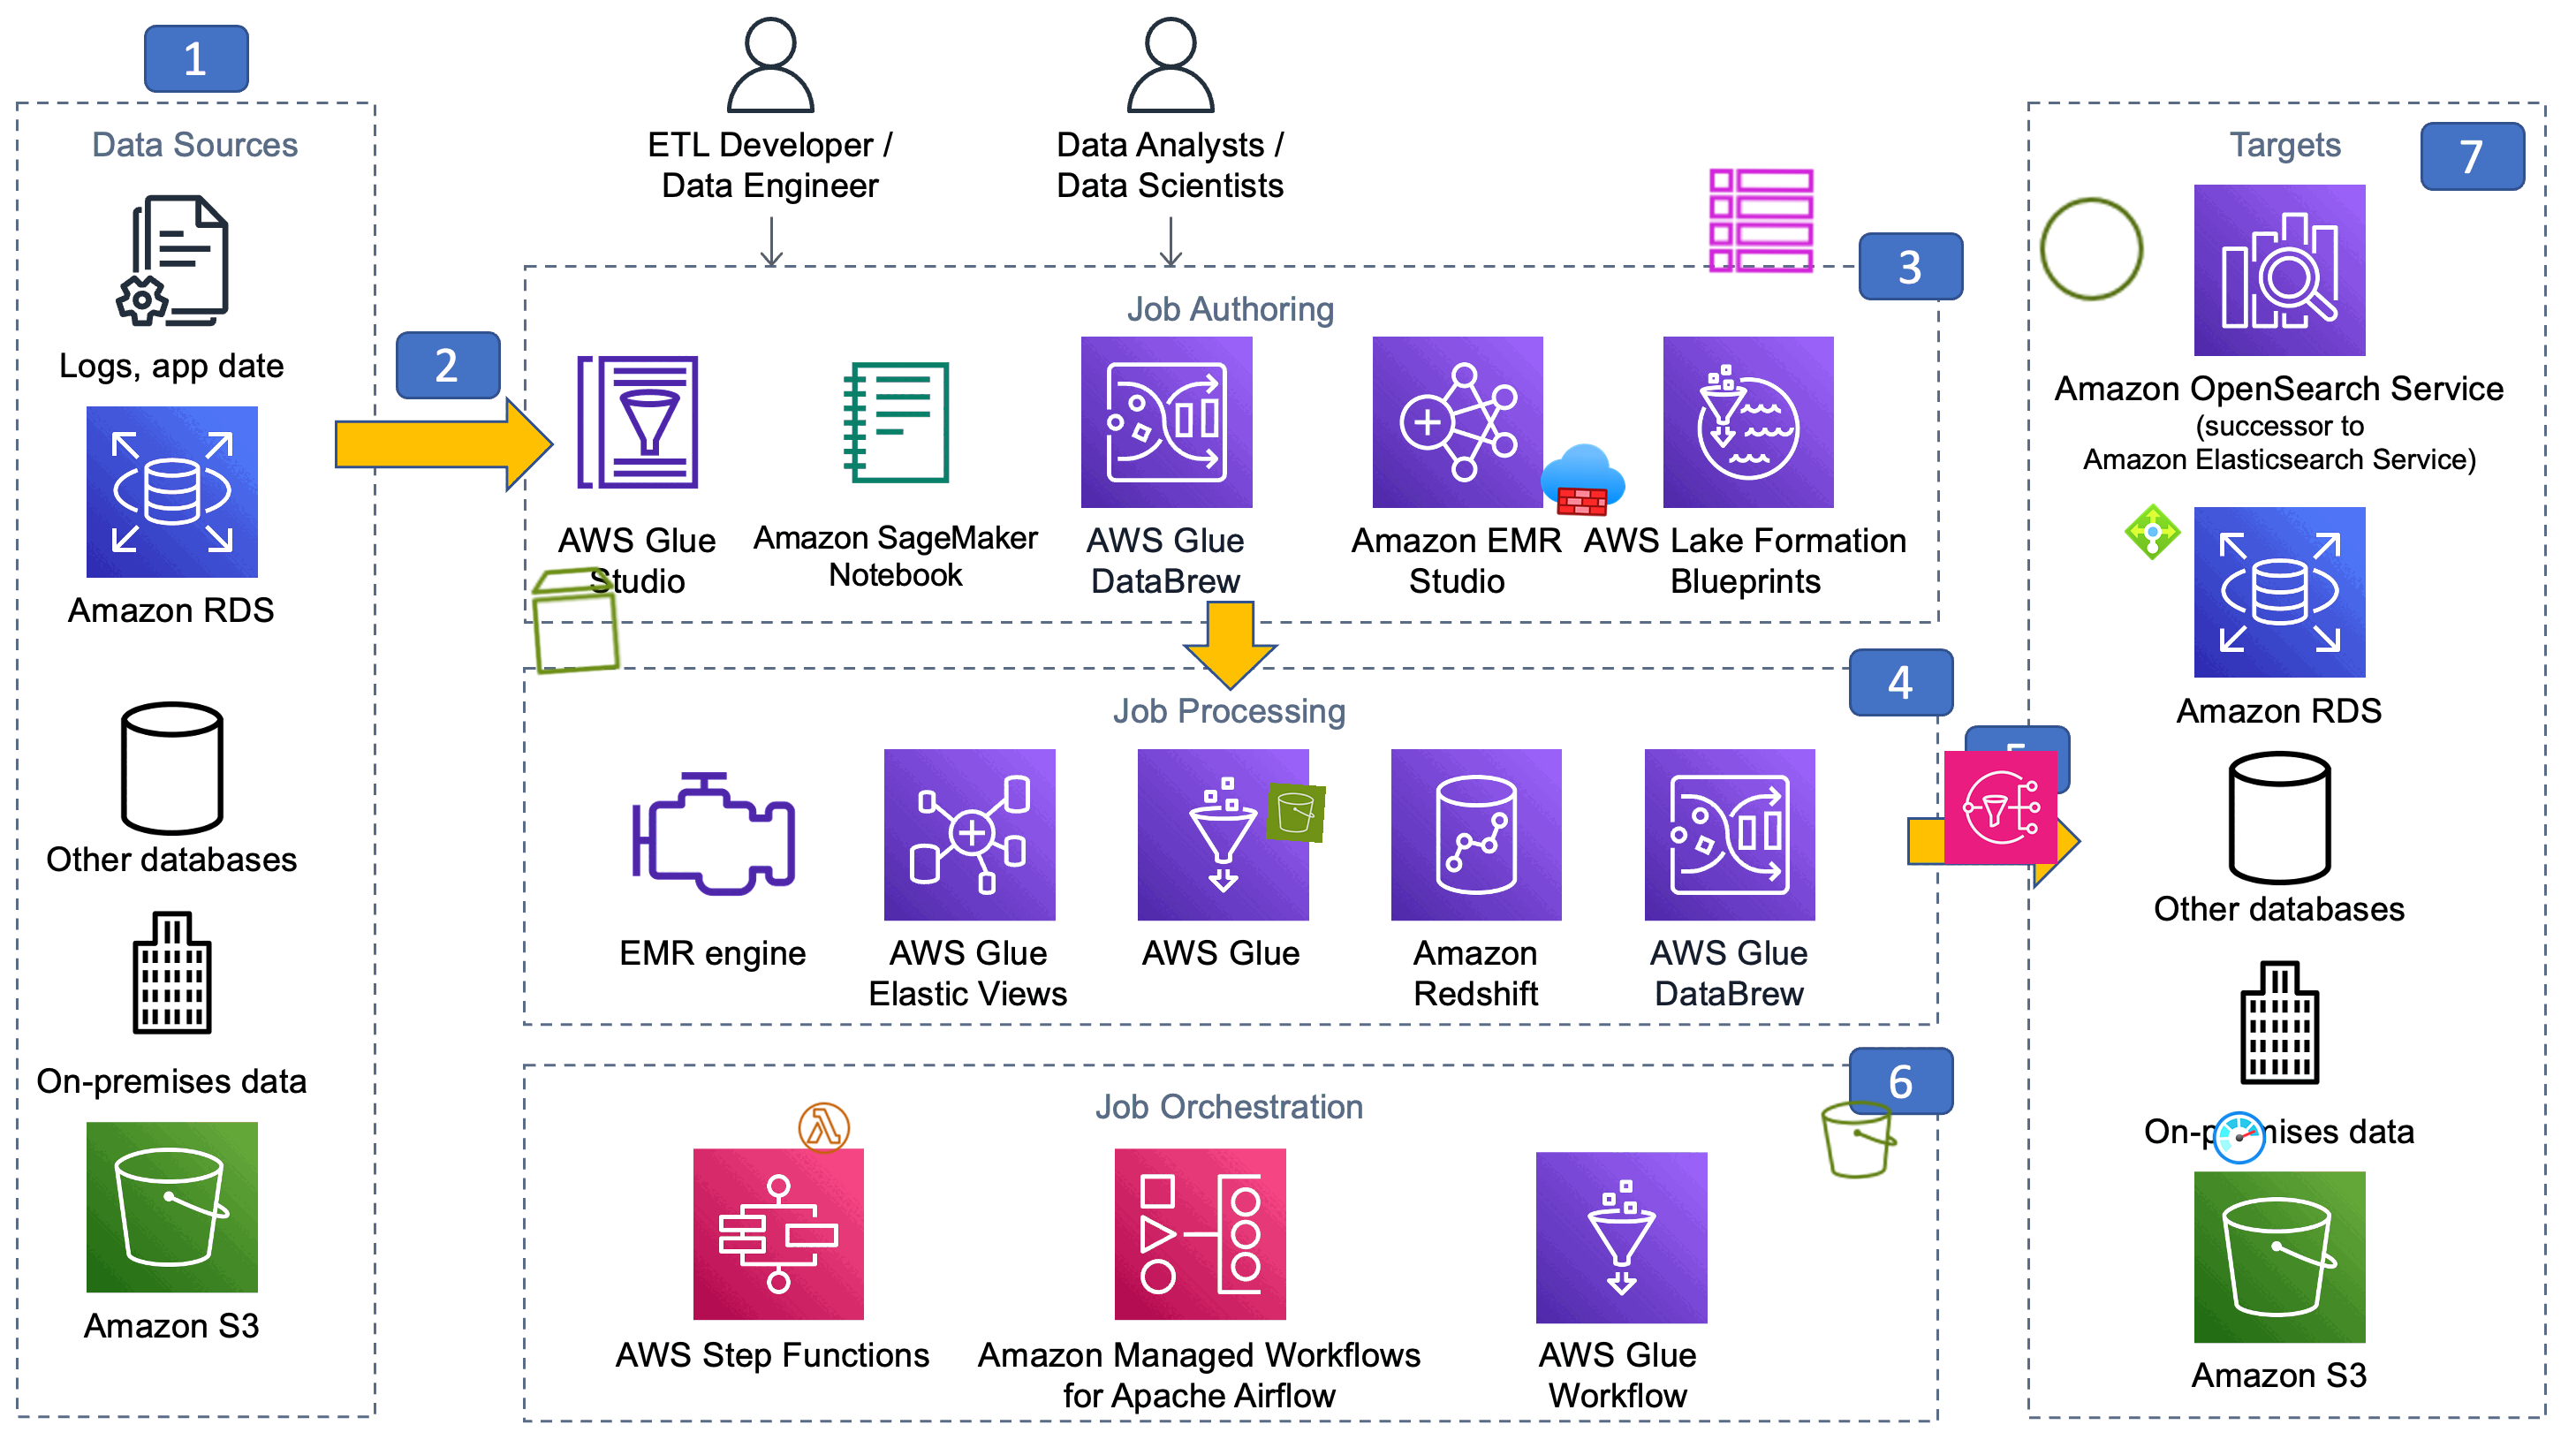aws_amazon_simple_notification_service: (1943, 750, 2058, 865)
aws_amazon_simple_storage_service: (1265, 782, 1327, 844)
aws_dynamodb_table: (1704, 163, 1819, 278)
aws_elastic_block_store_volume: (515, 559, 637, 681)
aws_lambda_lambda_function: (794, 1099, 853, 1157)
aws_simple_storage_service_bucket: (1815, 1095, 1904, 1183)
aws_simple_storage_service_object: (2033, 189, 2151, 308)
azure_firewalls: (1539, 435, 1628, 524)
azure_load_balancers: (2123, 502, 2181, 561)
azure_monitor: (2210, 1107, 2270, 1168)
